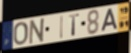8: (87, 9, 101, 37)
A: (101, 7, 119, 33)
I: (60, 14, 64, 40)
N: (28, 17, 47, 46)
O: (13, 21, 29, 46)
T: (68, 13, 81, 37)
